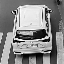motor: (13, 5, 48, 58)
